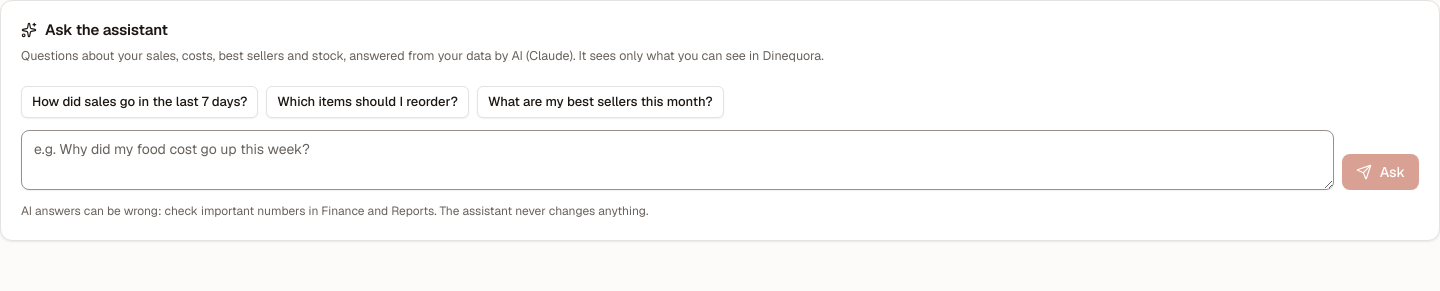
Scenario: assistant panel › says when the assistant is not set up, without failing
What coordinates should you click on to do the following:
click the button "How did sales go in the last 7 days?"
I would click on:
 (140, 102)
Its box is x1=21 y1=86 x2=258 y2=118.
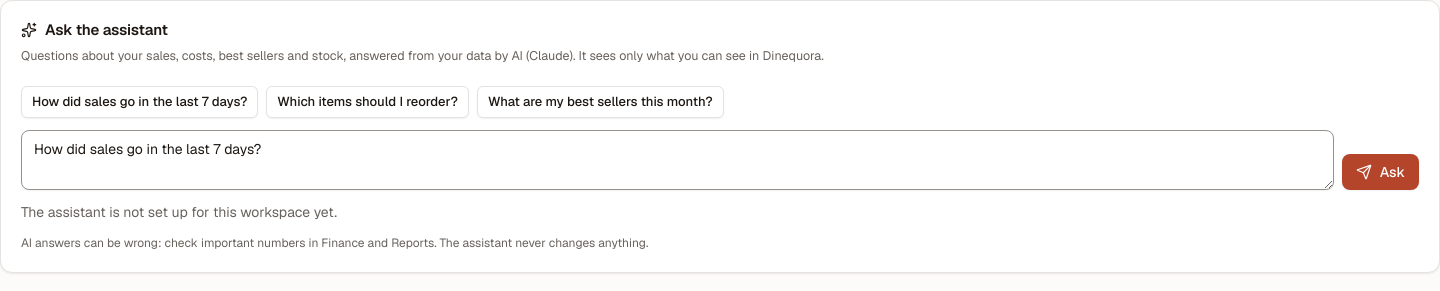
Expected: the message reads "The assistant is not set up for this workspace yet.", x1=21 y1=202 x2=337 y2=220
